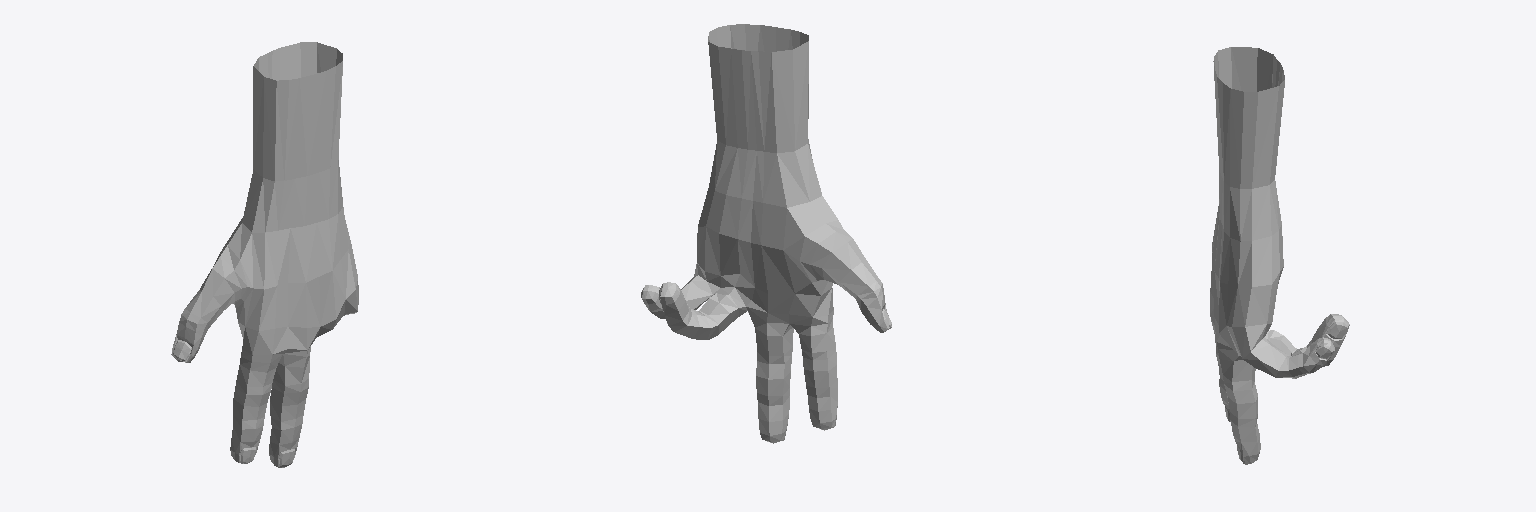
File: handAnimated4_000012.obj
3 renders of one model, left to right at view 1: azimuth 30°, elevation 25°; view 2: azimuth 150°, elevation 25°; view 3: azimuth 270°, elevation 25°, orthographic.
Visible parts, largest first — view 1: Cube.000_Cube.017_Detached_Detached; view 2: Cube.000_Cube.017_Detached_Detached; view 3: Cube.000_Cube.017_Detached_Detached.
Boxes of the visible parts, x1=… form: Cube.000_Cube.017_Detached_Detached: x1=171, y1=42, x2=358, y2=467; Cube.000_Cube.017_Detached_Detached: x1=641, y1=24, x2=891, y2=443; Cube.000_Cube.017_Detached_Detached: x1=1210, y1=47, x2=1349, y2=464.
Bounding box in the file's own units: 0.7149 × 1.34 × 0.422.